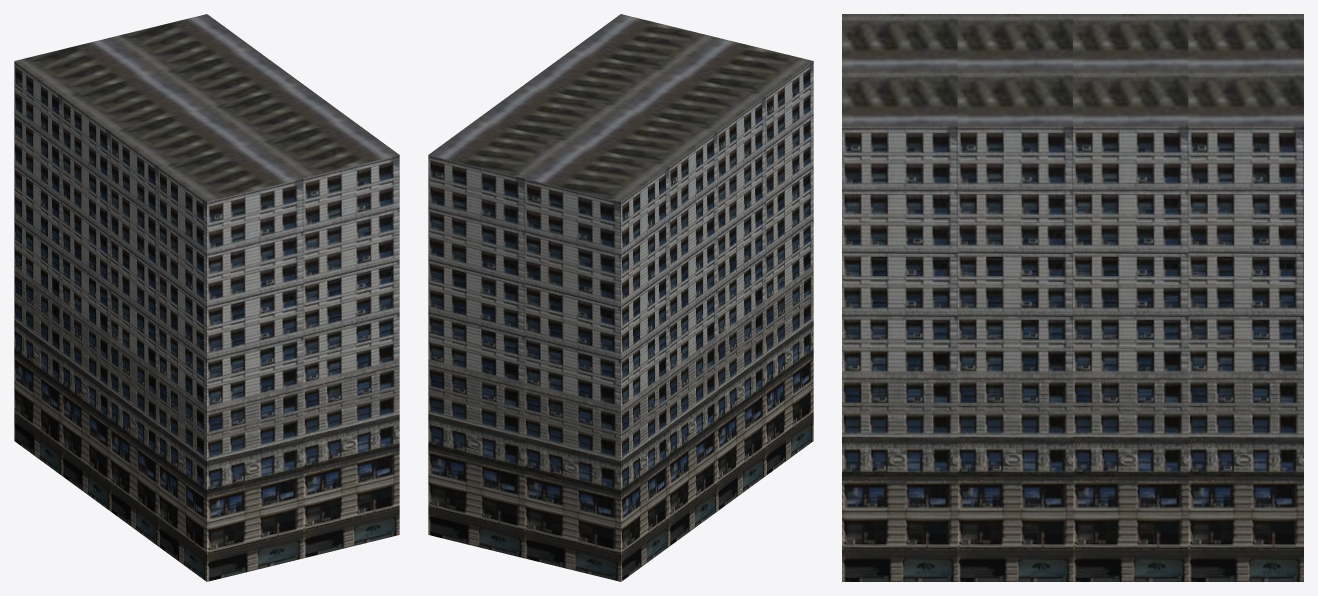
3 views of the same model, side by side, from view 1: azimuth 30°, elevation 25°; view 2: azimuth 150°, elevation 25°; view 3: azimuth 270°, elevation 25° (orthographic). The views are drawn at different scales.
Visible parts, largest first — view 1: ny-low-2; view 2: ny-low-2; view 3: ny-low-2.
Part boxes in pixels (x1=…): ny-low-2: x1=14, y1=14, x2=399, y2=581; ny-low-2: x1=428, y1=14, x2=813, y2=581; ny-low-2: x1=842, y1=14, x2=1303, y2=581.
Size of the model in its own units: 32.85 by 61.8 by 56.82.
Materials: 1 (1 with a texture image).
